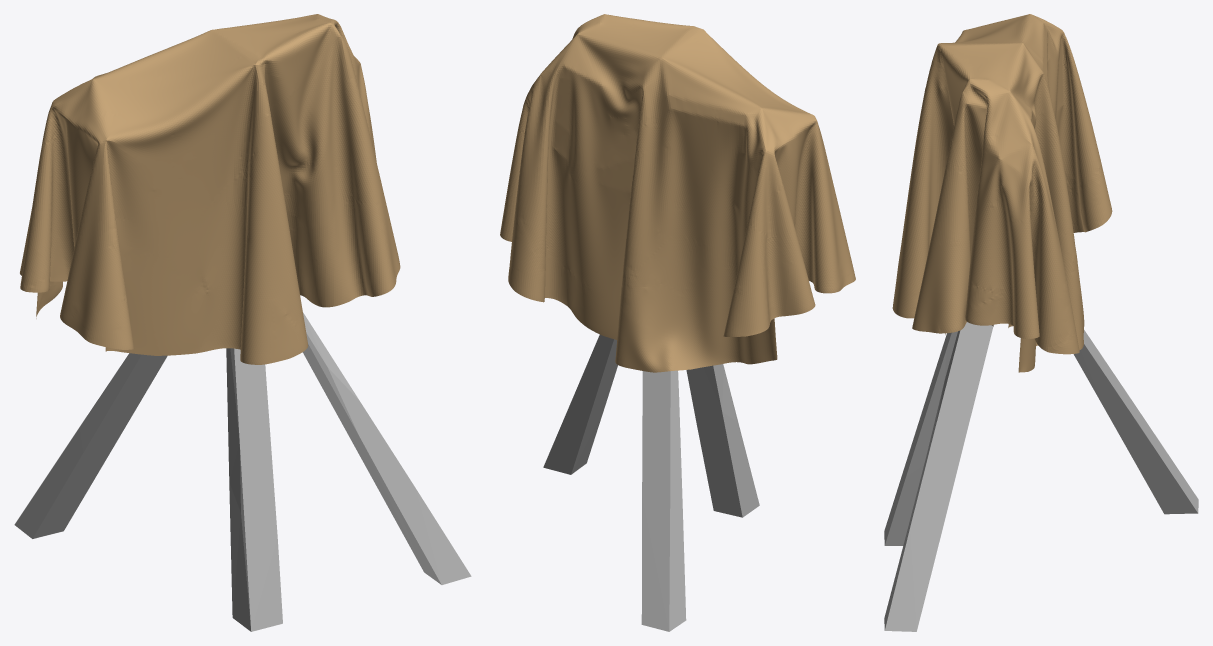
File: level_4.glb
The picture shows the model from 3 angles, left to right: view 1: azimuth 30°, elevation 25°; view 2: azimuth 150°, elevation 25°; view 3: azimuth 270°, elevation 25°; orthographic projection. The views are drawn at different scales.
Parts seen in each view (by area): view 1: world, object.obj; view 2: world, object.obj; view 3: world, object.obj.
Part boxes in pixels (x1=…): world: x1=20, y1=14, x2=400, y2=364; object.obj: x1=14, y1=312, x2=471, y2=631; world: x1=500, y1=14, x2=855, y2=372; object.obj: x1=543, y1=334, x2=759, y2=631; world: x1=892, y1=14, x2=1112, y2=372; object.obj: x1=884, y1=322, x2=1198, y2=631.
Size of the model in its own units: 0.2851 by 0.4063 by 0.2274.
